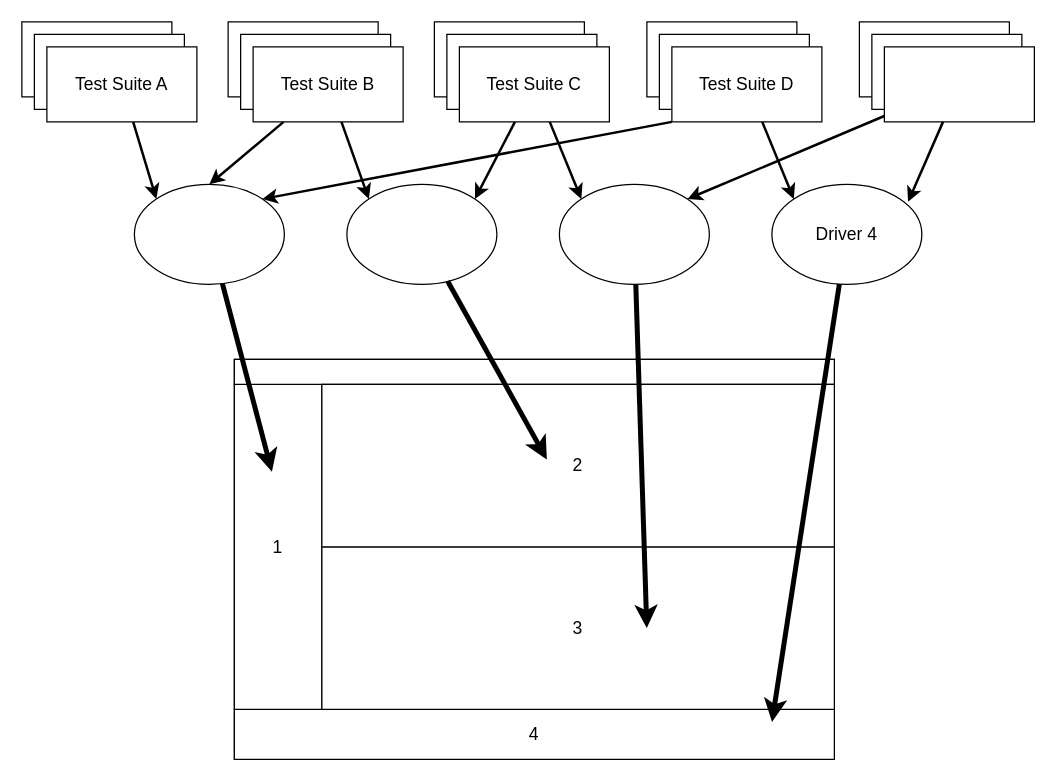
Some shapes in this 1056 by 781 pixel diagram are drawn without their labels. The shapes that lost their labels are listed below. From the top down, each one's centre as x and y in pixels, then its label:
At point 958,84: "Test Suite N".
At point 208,233: "Driver 1".
At point 421,233: "Driver 2".
At point 633,233: "Driver 3".
